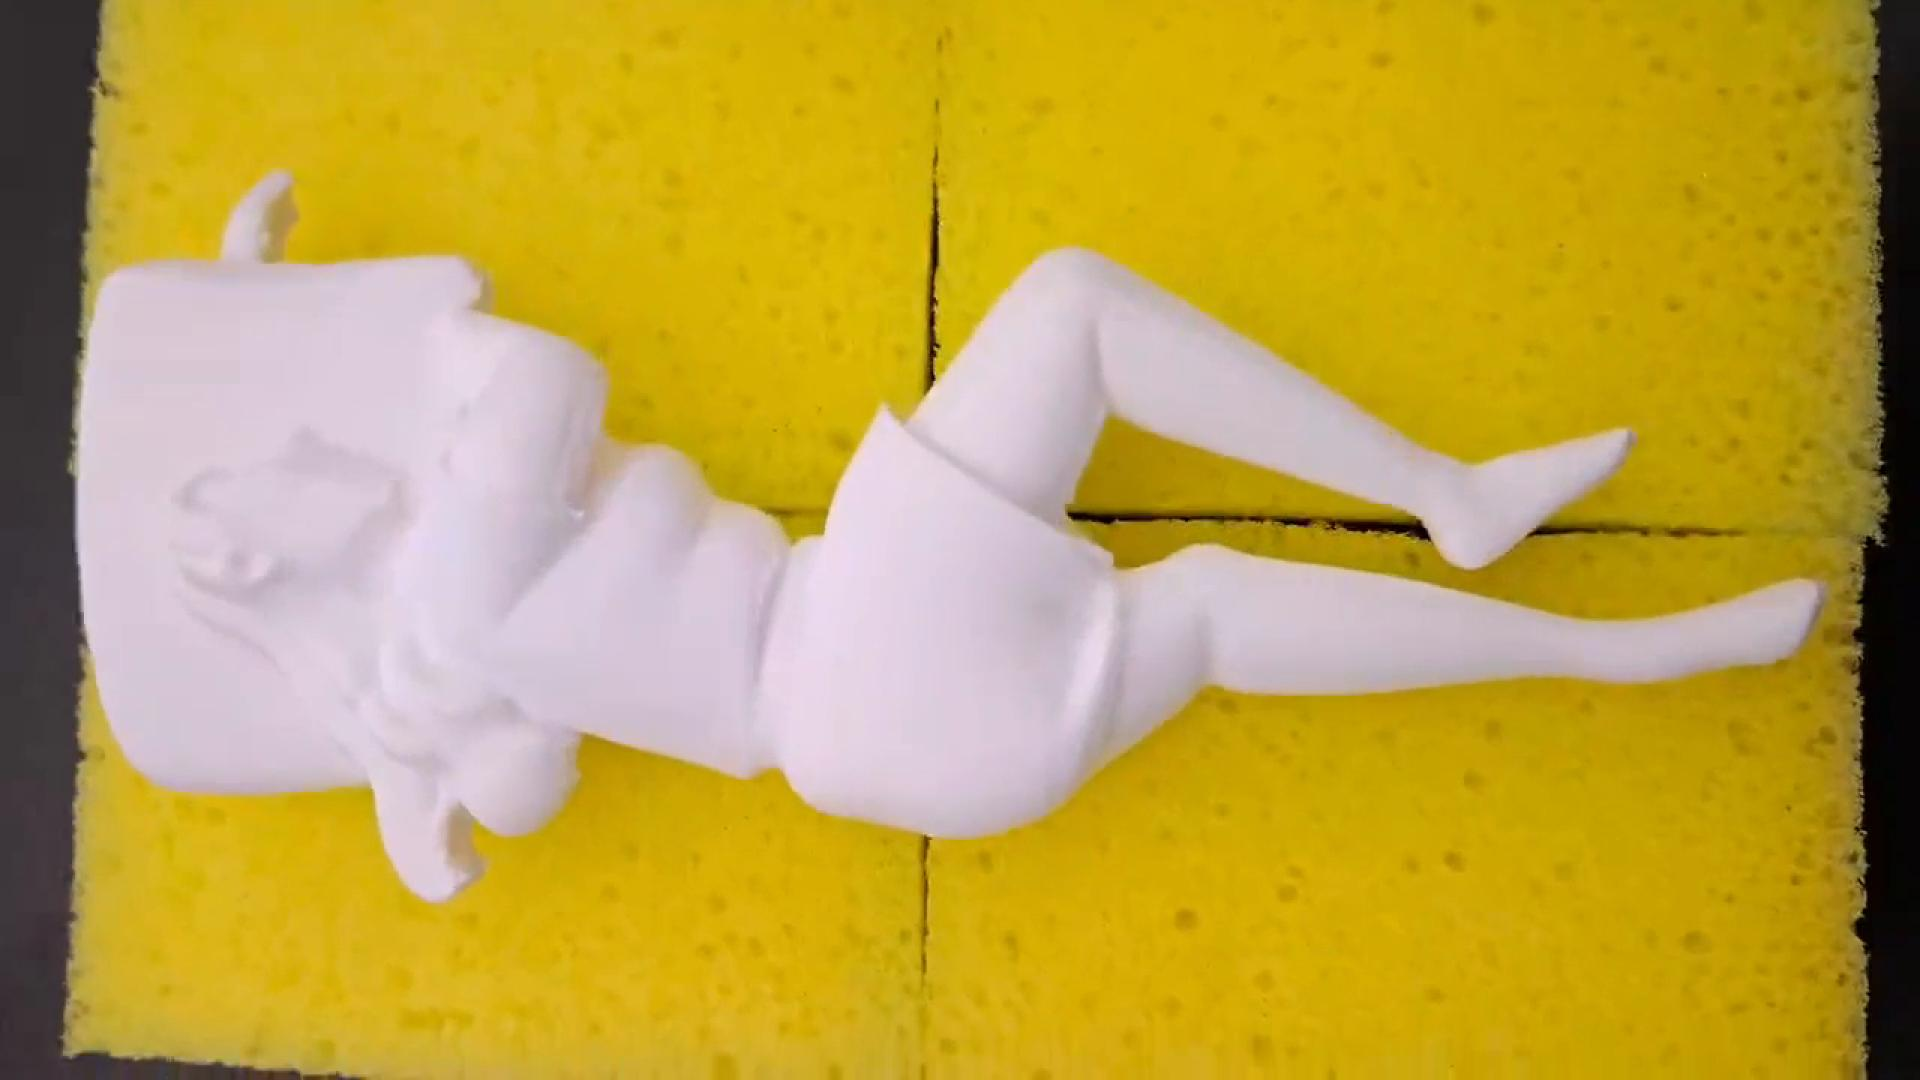Good-style: (63, 170, 1817, 906)
